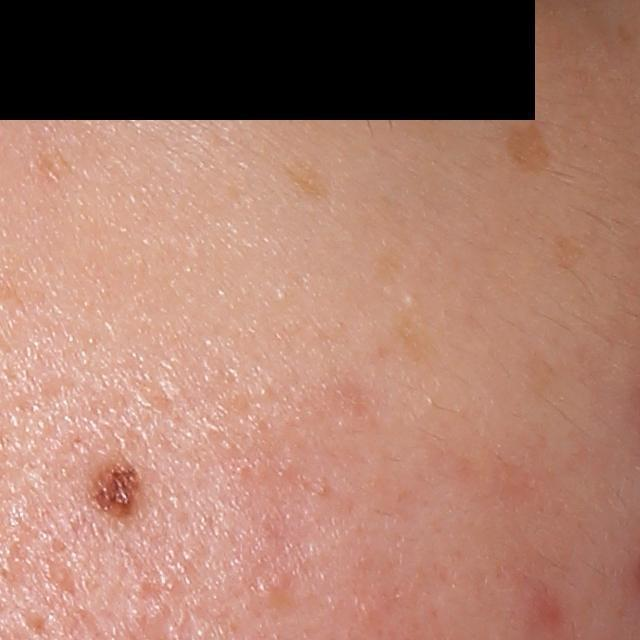melasma: (499, 119, 557, 175), (279, 158, 342, 203), (392, 318, 443, 371), (554, 233, 585, 272)
nevus: (84, 445, 156, 531)
